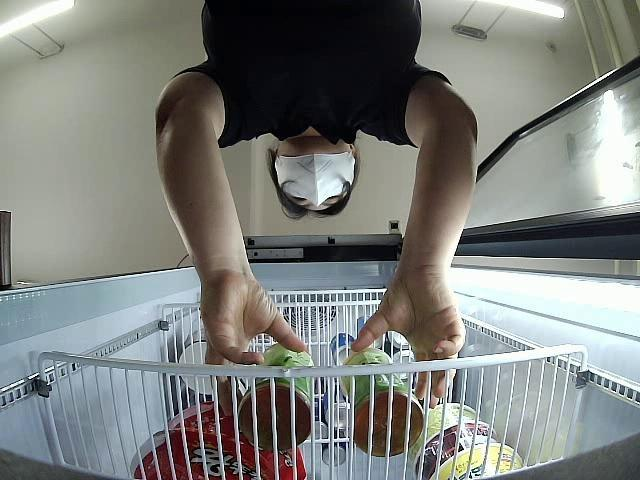19_17cha: (339, 347, 422, 457), (237, 343, 314, 450)
